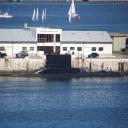submarine: (11, 52, 128, 78)
